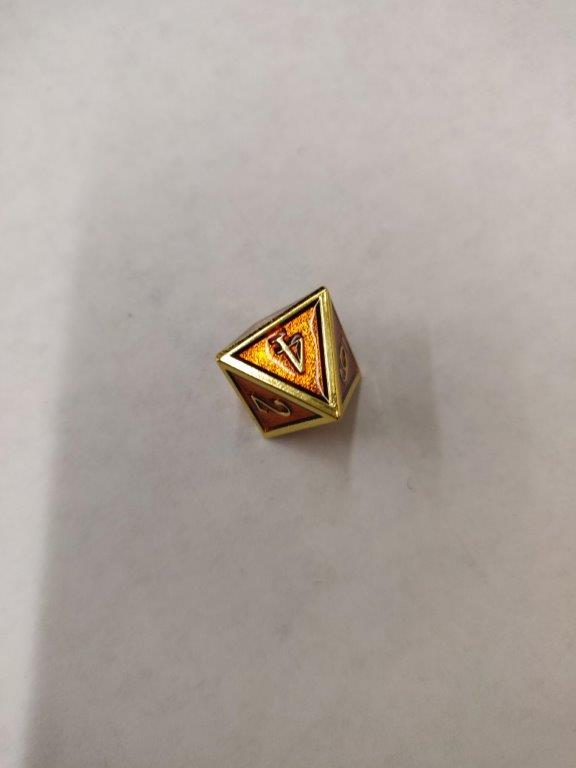d8-4: (214, 287, 367, 436)
